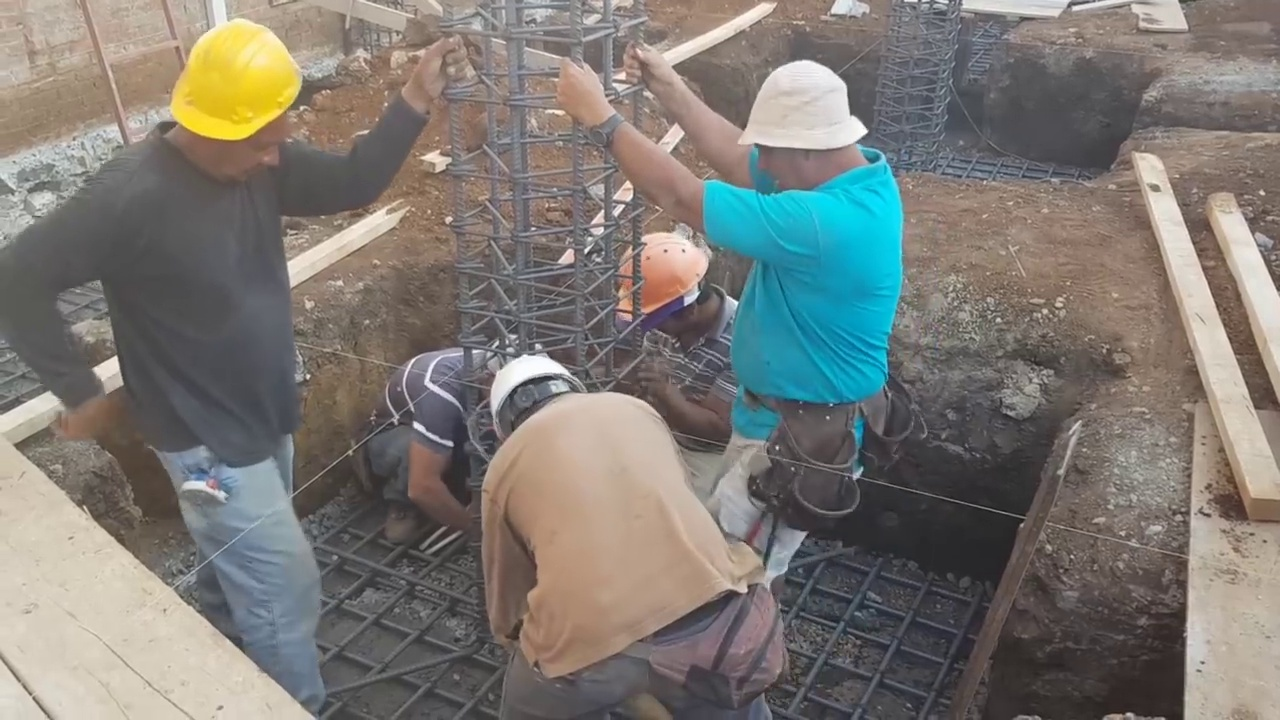helmet: (168, 18, 308, 142), (612, 222, 703, 330), (492, 353, 574, 441)
helmet-off: (734, 60, 875, 197)
helmet-on: (155, 16, 303, 189), (615, 230, 733, 358), (488, 344, 591, 441)
person: (0, 0, 377, 649), (559, 45, 902, 591), (487, 351, 787, 719), (610, 226, 745, 491), (367, 344, 485, 545)
